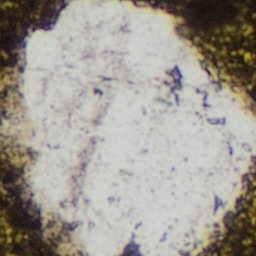cement_matrix: (134, 0, 255, 106), (0, 141, 62, 255), (0, 0, 66, 79), (200, 169, 255, 255), (0, 86, 11, 117), (168, 68, 181, 91), (124, 249, 136, 255)
gravel_crushed_stones: (0, 0, 255, 255), (167, 67, 182, 92)
